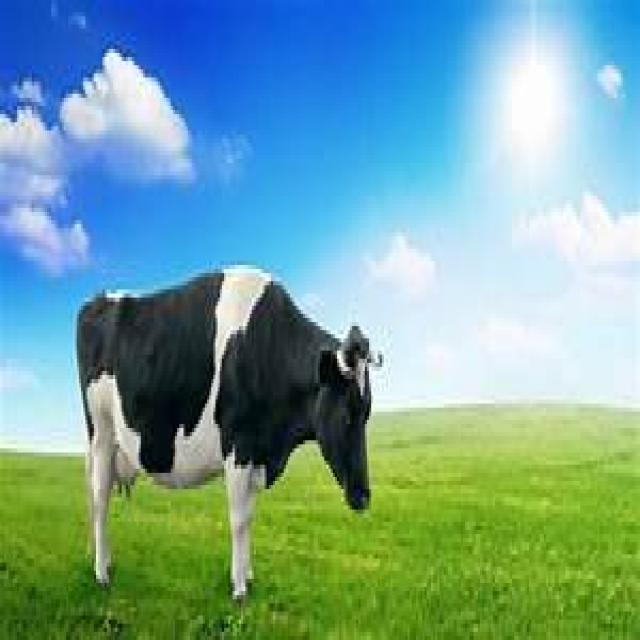cow: (75, 261, 382, 603)
